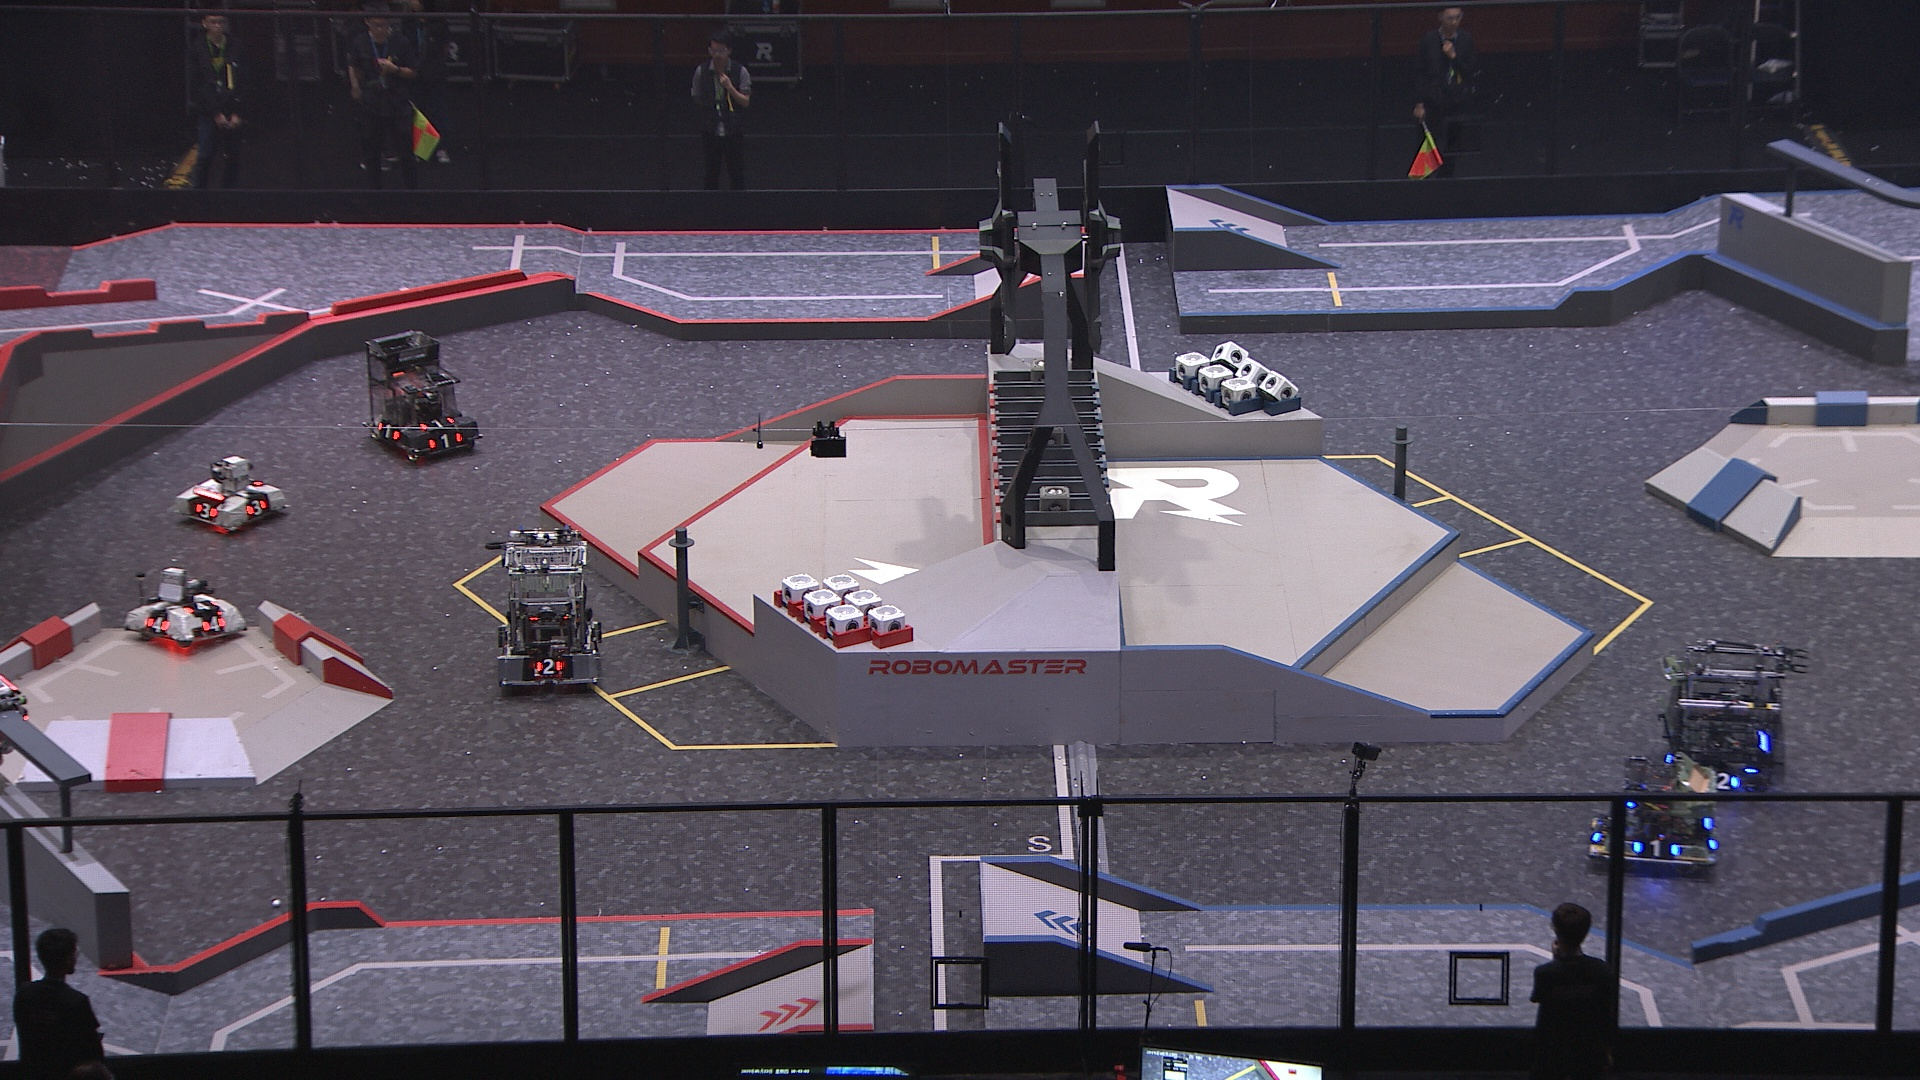armor: (1633, 835, 1681, 861), (429, 429, 463, 454), (418, 410, 456, 433), (1709, 766, 1741, 793), (240, 495, 269, 520), (183, 597, 219, 617), (375, 417, 400, 444), (191, 500, 222, 522), (199, 613, 229, 636), (1582, 815, 1604, 845), (142, 615, 171, 633), (535, 657, 566, 674)
car: (1654, 636, 1785, 794), (493, 526, 611, 690), (1578, 752, 1726, 877), (361, 324, 484, 465), (119, 567, 251, 654), (167, 455, 287, 535)
